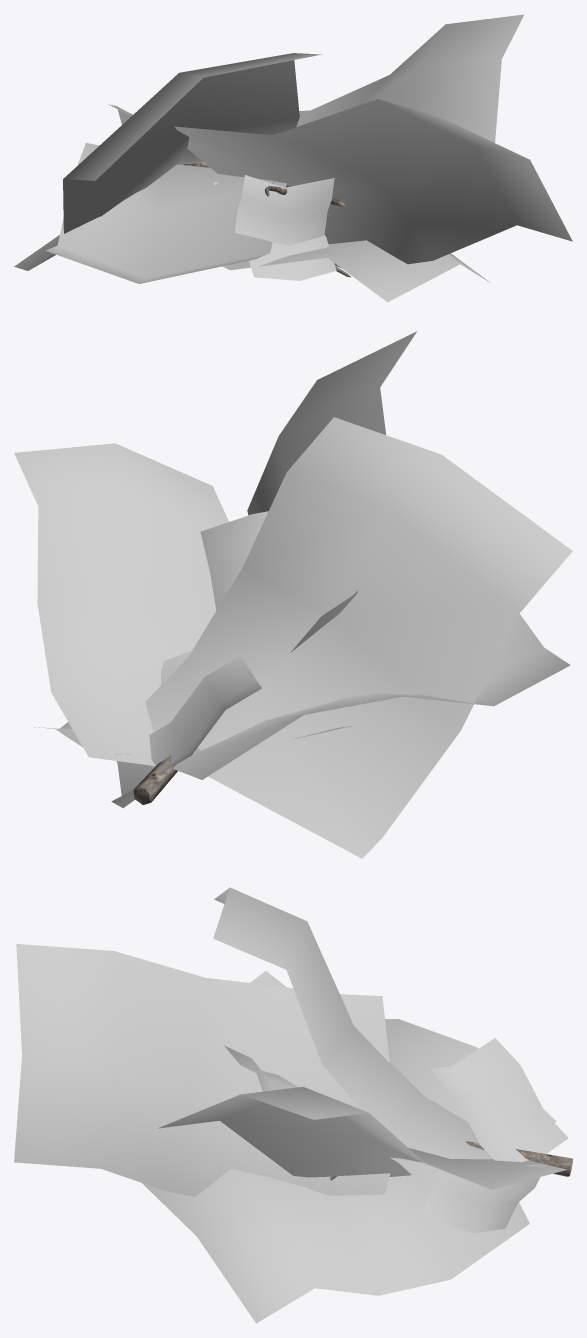
File: SM_OakBranchGold_1.fbx
3 renders of one model, top to bottom at view 1: azimuth 30°, elevation 25°; view 2: azimuth 150°, elevation 25°; view 3: azimuth 270°, elevation 25°, orthographic. The views are drawn at different scales.
Parts seen in each view (by area): view 1: greenBranch_beech_thin_6; view 2: greenBranch_beech_thin_6; view 3: greenBranch_beech_thin_6.
Boxes of the visible parts, bbox=[...] form: greenBranch_beech_thin_6: bbox=[14, 14, 572, 302]; greenBranch_beech_thin_6: bbox=[14, 331, 572, 858]; greenBranch_beech_thin_6: bbox=[14, 887, 572, 1323].
Size of the model in its own units: 3.51 by 2.05 by 3.39.
